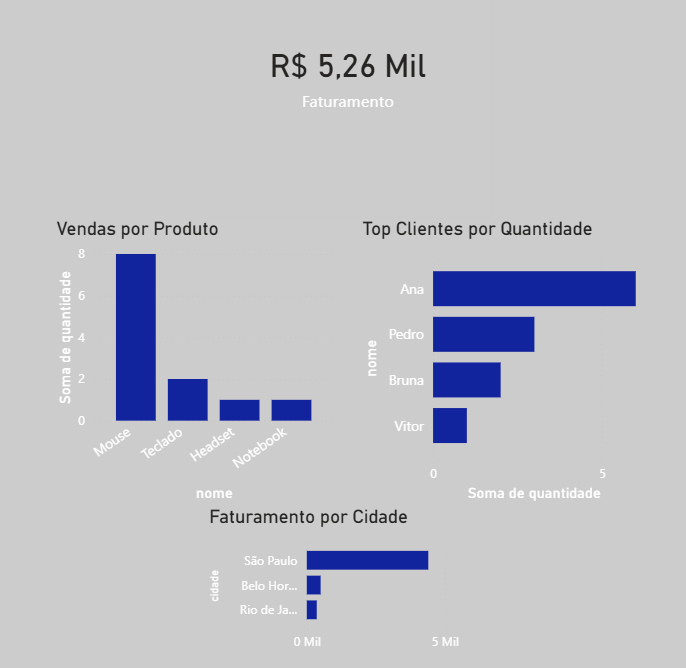

This screenshot's page, from the dashboard's own definition file:
{"tool":"powerbi","page":{"name":"Página 1","canvas":[1280,720],"ordinal":0},"visuals":[{"type":"clusteredColumnChart","title":"Vendas por Produto","fields":{"Category":["vendas_db produtos.nome"],"Y":["Sum(vendas_db pedidos.quantidade)"]},"box":[351.1,280.1,280.1,280.1],"z":0},{"type":"card","fields":{"Values":["vendas_db clientes.Faturamento"]},"box":[499.9,0,280.1,280.1],"z":1000},{"type":"barChart","title":"Faturamento por Cidade","fields":{"Category":["vendas_db clientes.cidade"],"Y":["vendas_db clientes.Faturamento"]},"box":[499.9,560.2,280.1,149.8],"z":2000},{"type":"barChart","title":"Top Clientes por Quantidade","fields":{"Category":["vendas_db clientes.nome"],"Y":["Sum(vendas_db pedidos.quantidade)"]},"box":[648.8,280.1,280.1,280.1],"z":3000}]}

Visuals, with their boxes on the page's 1280x720 design canvas (x1, y1, x2, y2). These are canvas units, not pixel positions in the 686x668 screenshot, which may show the page scaled, cropped or inside an application window:
"Vendas por Produto" clusteredColumnChart: Rect(351, 280, 631, 560)
card - vendas_db clientes.Faturamento: Rect(500, 0, 780, 280)
"Faturamento por Cidade" barChart: Rect(500, 560, 780, 710)
"Top Clientes por Quantidade" barChart: Rect(649, 280, 929, 560)
